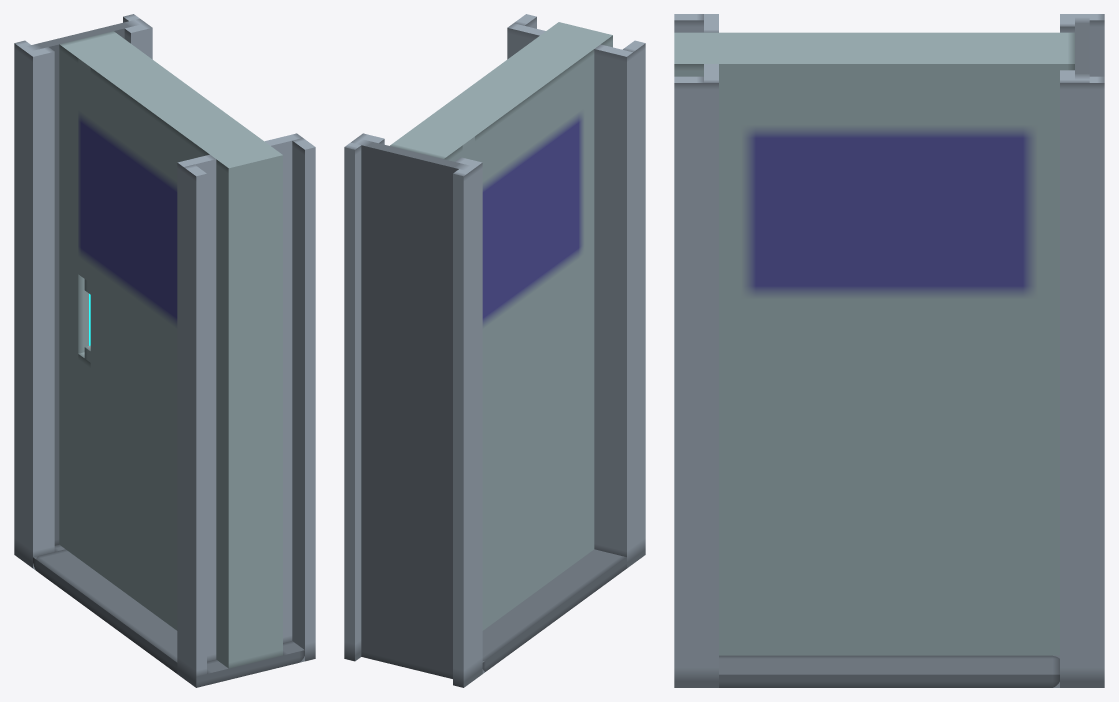
File: dzwi_wyjscie_01.dae
3 renders of one model, left to right at view 1: azimuth 30°, elevation 25°; view 2: azimuth 150°, elevation 25°; view 3: azimuth 270°, elevation 25°, orthographic. The views are drawn at different scales.
Parts seen in each view (by area): view 1: Content; view 2: Content; view 3: Content.
Boxes of the visible parts, x1,y1,x2,y2 form: Content: (14,14,315,687); Content: (344,14,645,687); Content: (674,14,1104,687).
Bounding box in the file's own units: 11 × 45 × 29.
1 material, 1 textured.
